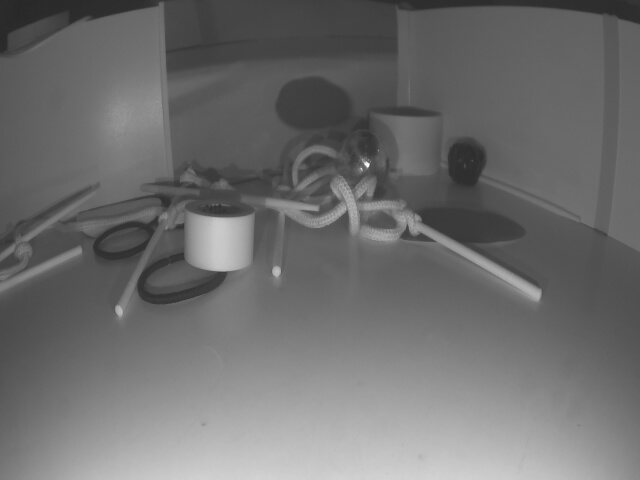Dead: (450, 140, 483, 181)
Live: (339, 133, 387, 193)
